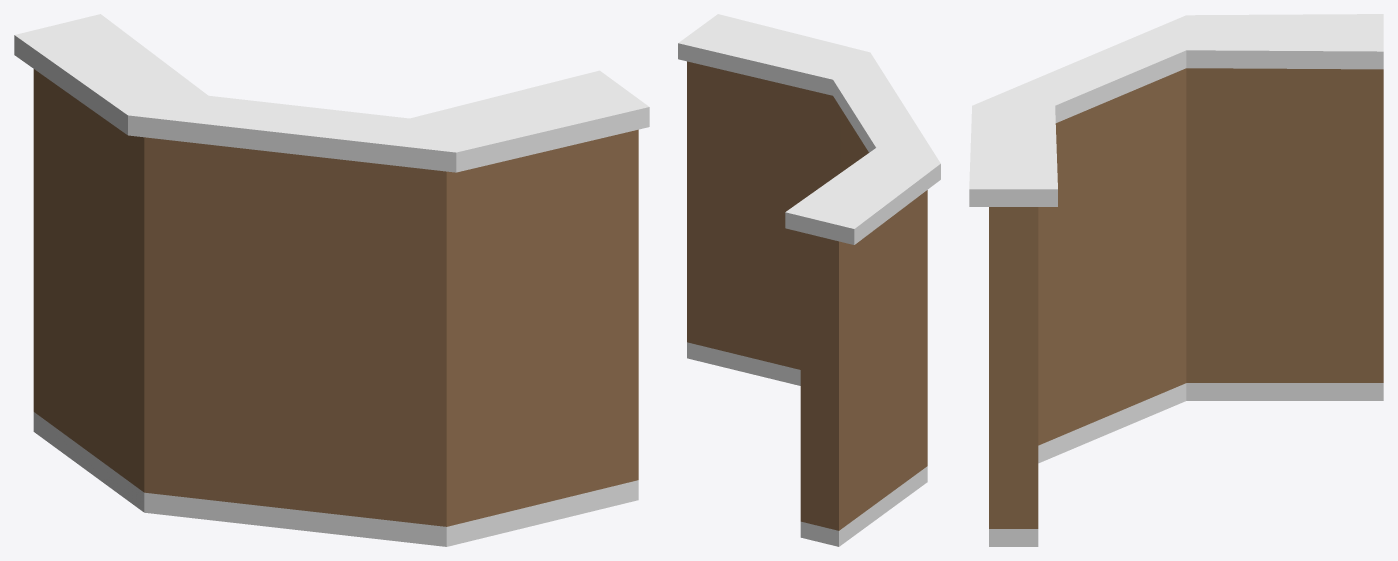
Rendered from SM_4x4m_HalfWall_BevelCorner.fbx.
3 views of the same model, side by side, from view 1: azimuth 30°, elevation 25°; view 2: azimuth 150°, elevation 25°; view 3: azimuth 270°, elevation 25° (orthographic). The views are drawn at different scales.
Parts seen in each view (by area): view 1: SM_4x2m_HalfWall_BevelCorner.001; view 2: SM_4x2m_HalfWall_BevelCorner.001; view 3: SM_4x2m_HalfWall_BevelCorner.001.
Boxes of the visible parts, bbox=[...] form: SM_4x2m_HalfWall_BevelCorner.001: bbox=[14, 14, 649, 546]; SM_4x2m_HalfWall_BevelCorner.001: bbox=[678, 14, 940, 546]; SM_4x2m_HalfWall_BevelCorner.001: bbox=[969, 14, 1383, 546].
Bounding box in the file's own units: 210 × 210 × 200.
